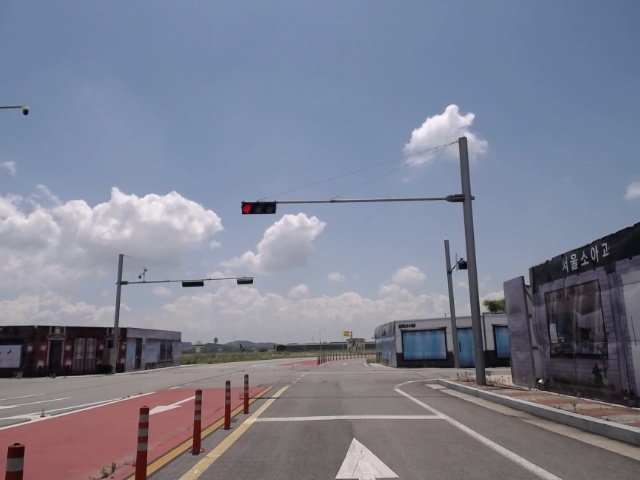red_3: (239, 200, 278, 217)
